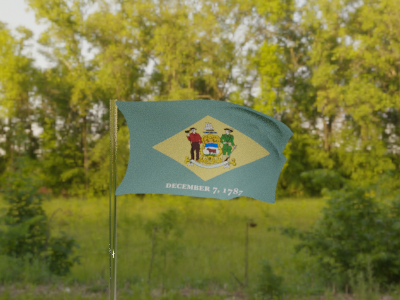Delaware flag: (115, 98, 292, 205)
